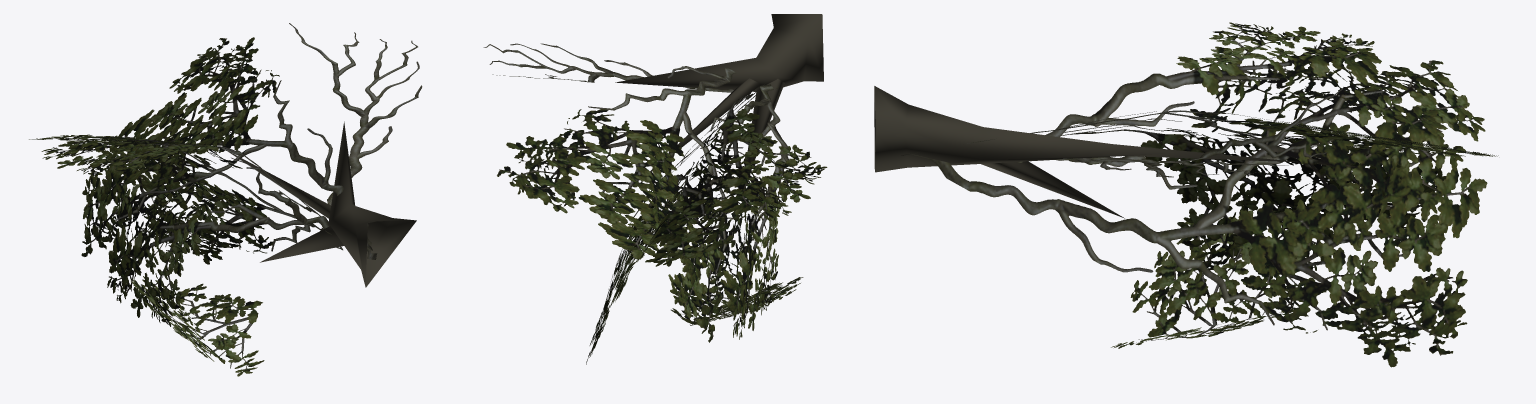
Rendered from MEP_Oak_04_LOD_02.fbx.
The picture shows the model from 3 angles, left to right: view 1: azimuth 30°, elevation 25°; view 2: azimuth 150°, elevation 25°; view 3: azimuth 270°, elevation 25°; orthographic projection. The views are drawn at different scales.
Parts seen in each view (by area): view 1: MEP_Oak_04_LOD_02; view 2: MEP_Oak_04_LOD_02; view 3: MEP_Oak_04_LOD_02.
Part boxes in pixels (x1,y1,x2,y2): MEP_Oak_04_LOD_02: (29, 23, 422, 376); MEP_Oak_04_LOD_02: (483, 14, 827, 364); MEP_Oak_04_LOD_02: (874, 22, 1498, 367).
Bounding box in the file's own units: 14.67 × 10.39 × 17.28.
